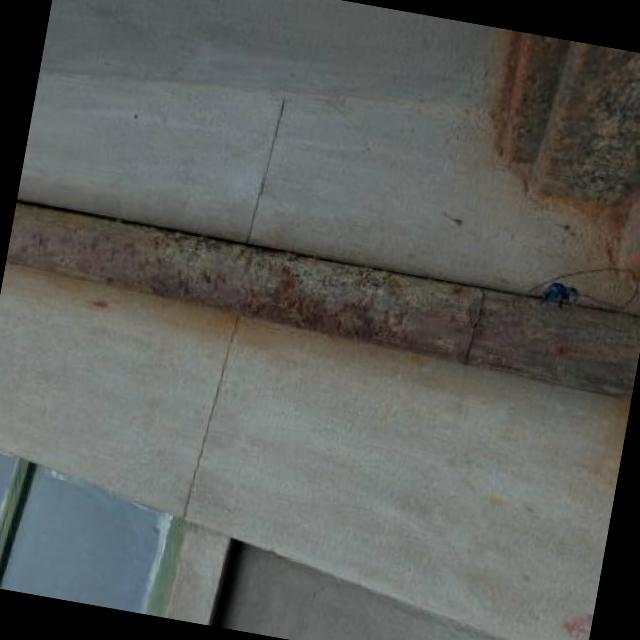gas: (1, 184, 640, 398)
